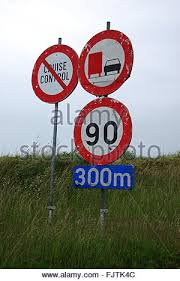Speed_limit_90km: (74, 97, 133, 165)
